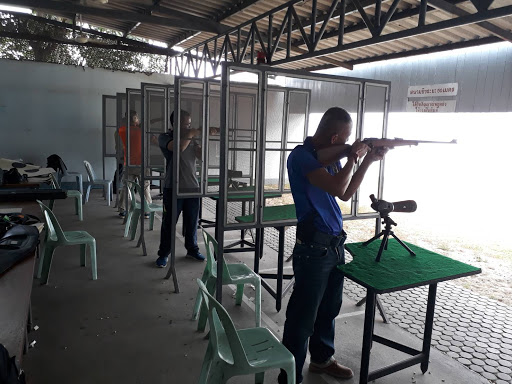gun: (310, 132, 462, 169)
